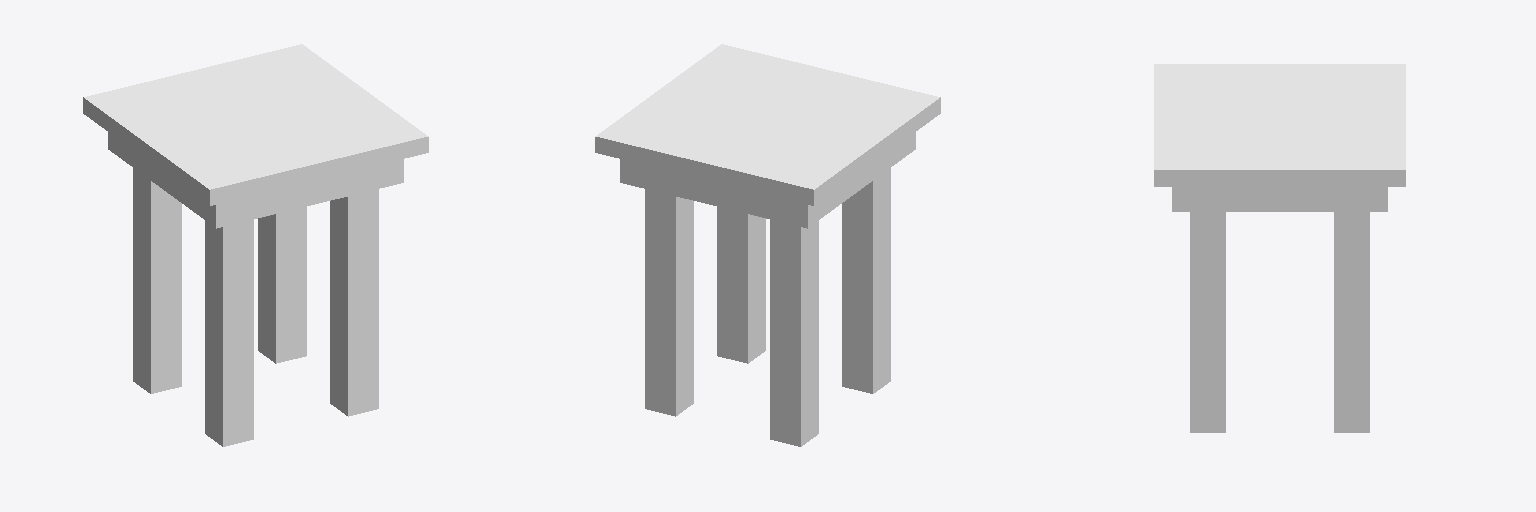
File: stool.obj
3 views of the same model, side by side, from view 1: azimuth 30°, elevation 25°; view 2: azimuth 150°, elevation 25°; view 3: azimuth 270°, elevation 25° (orthographic).
Visible parts, largest first — view 1: object 1; view 2: object 1; view 3: object 1.
Part boxes in pixels (left/top/right/bottom): object 1: left=83, top=44, right=428, bottom=446; object 1: left=595, top=44, right=940, bottom=446; object 1: left=1154, top=64, right=1405, bottom=432.
Size of the model in its own units: 1.4 by 1.7 by 1.4.